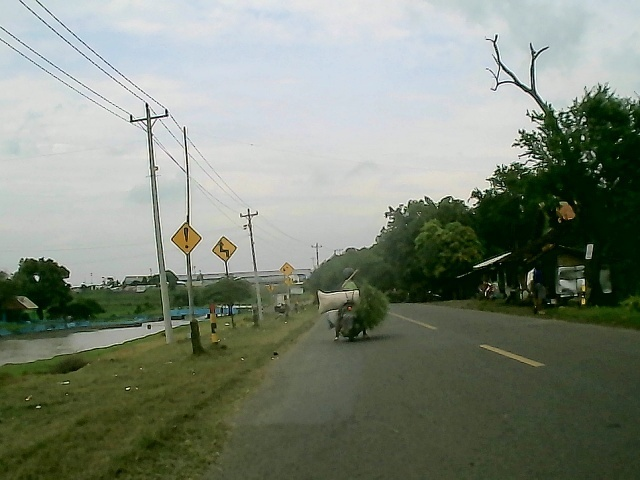Hati-hati: (170, 221, 203, 257)
Peringatan tepi air: (278, 261, 295, 279)
Tikungan garda pertama kiri: (210, 235, 238, 263)
